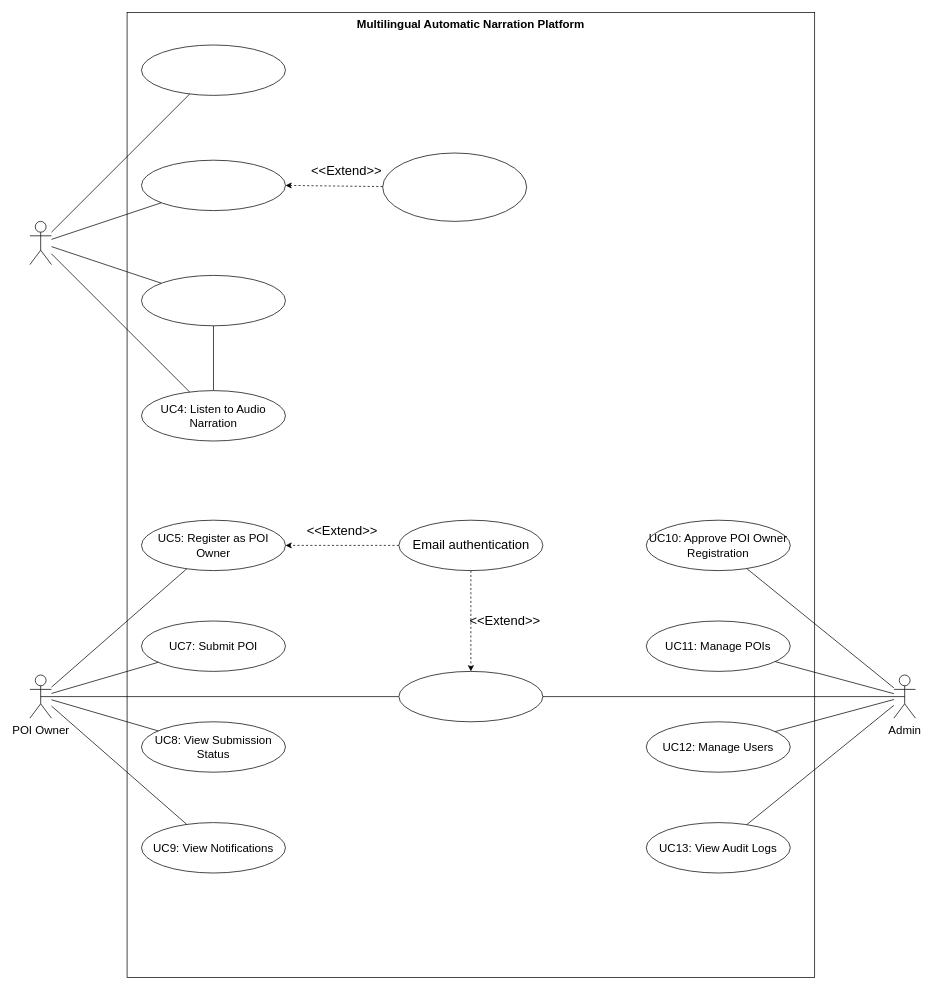
The diagram is 933 pixels wide and 990 high, and some of its shapes have lost their labels. The box of each missing label's shape, as (x1, y1, x2, y2) in pixels:
Get device location: (382, 152, 527, 221)
UC1: Select Language: (141, 44, 285, 95)
UC2: View Map and POIs: (141, 159, 285, 211)
UC3: View POI Information: (141, 275, 285, 326)
UC6: Login: (398, 671, 543, 722)
User: (29, 221, 51, 265)
